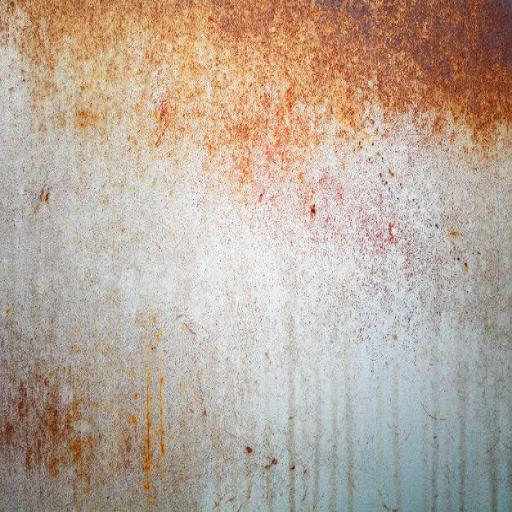segmentation: (0, 0, 511, 185), (0, 357, 132, 500), (143, 351, 152, 489), (158, 355, 164, 457), (309, 204, 317, 217)
